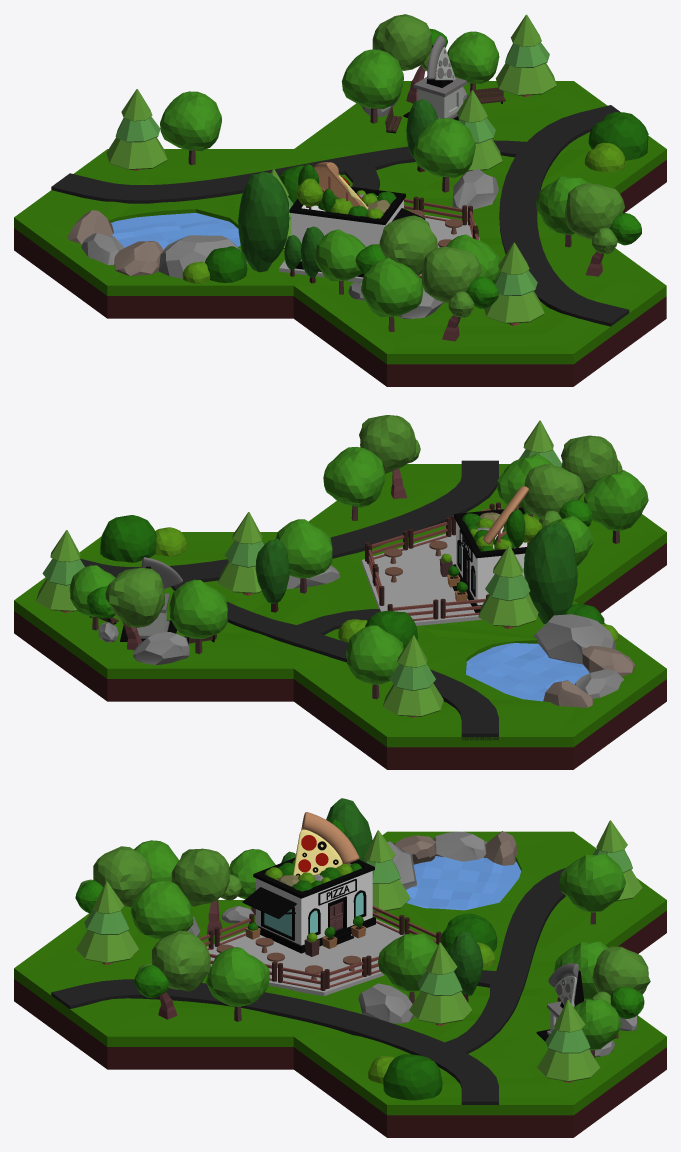
File: 3hex_small_pizzeria.fbx
3 views of the same model, one above another, from view 1: azimuth 30°, elevation 25°; view 2: azimuth 150°, elevation 25°; view 3: azimuth 270°, elevation 25° (orthographic).
Parts seen in each view (by area): view 1: Grass, Earth, Cube, Icosphere.043, Plane.003, Icosphere.019, Icosphere.046, Icosphere.038, Icosphere.029, Icosphere.030, Icosphere.035, Icosphere.021 (+34 smaller); view 2: Grass, Earth, Cube, Cube.002, Plane.003, Icosphere.043, Icosphere.036, Icosphere.029, Icosphere.021, Icosphere.019, Rock1.004, Icosphere.046 (+37 smaller); view 3: Grass, Earth, Cube, Plane.003, Cube.002, Icosphere.046, Icosphere.036, Icosphere.028, Icosphere.035, Icosphere.026, Icosphere.038, Cube.001 (+38 smaller).
Part boxes in pixels (bbox=[...]): Grass: bbox=[14, 81, 666, 364]; Earth: bbox=[14, 160, 666, 386]; Cube: bbox=[51, 105, 629, 326]; Icosphere.043: bbox=[238, 171, 289, 272]; Plane.003: bbox=[111, 213, 240, 249]; Icosphere.019: bbox=[341, 49, 403, 109]; Icosphere.046: bbox=[160, 91, 221, 150]; Icosphere.038: bbox=[413, 118, 475, 177]; Icosphere.029: bbox=[361, 258, 423, 316]; Icosphere.030: bbox=[421, 246, 481, 302]; Icosphere.035: bbox=[565, 183, 624, 239]; Icosphere.021: bbox=[372, 14, 431, 70]; Grass: bbox=[14, 464, 666, 747]; Earth: bbox=[14, 543, 666, 769]; Cube: bbox=[80, 460, 498, 740]; Cube.002: bbox=[361, 532, 481, 625]; Plane.003: bbox=[465, 643, 589, 701]; Icosphere.043: bbox=[523, 522, 577, 623]; Icosphere.036: bbox=[323, 447, 385, 507]; Icosphere.029: bbox=[584, 470, 648, 531]; Icosphere.021: bbox=[105, 568, 164, 627]; Icosphere.019: bbox=[169, 579, 227, 638]; Rock1.004: bbox=[533, 614, 615, 664]; Icosphere.046: bbox=[346, 625, 403, 684]; Grass: bbox=[14, 831, 666, 1115]; Earth: bbox=[14, 911, 666, 1137]; Cube: bbox=[51, 868, 565, 1104]; Plane.003: bbox=[406, 856, 520, 910]; Cube.002: bbox=[206, 919, 404, 995]; Icosphere.046: bbox=[559, 854, 625, 912]; Icosphere.036: bbox=[206, 947, 269, 1006]; Icosphere.028: bbox=[130, 880, 193, 939]; Icosphere.035: bbox=[152, 930, 210, 991]; Icosphere.026: bbox=[171, 848, 229, 906]; Icosphere.038: bbox=[378, 933, 437, 991]; Cube.001: bbox=[256, 863, 372, 945].
Size of the model in its own units: 5196 by 1257 by 5249.
